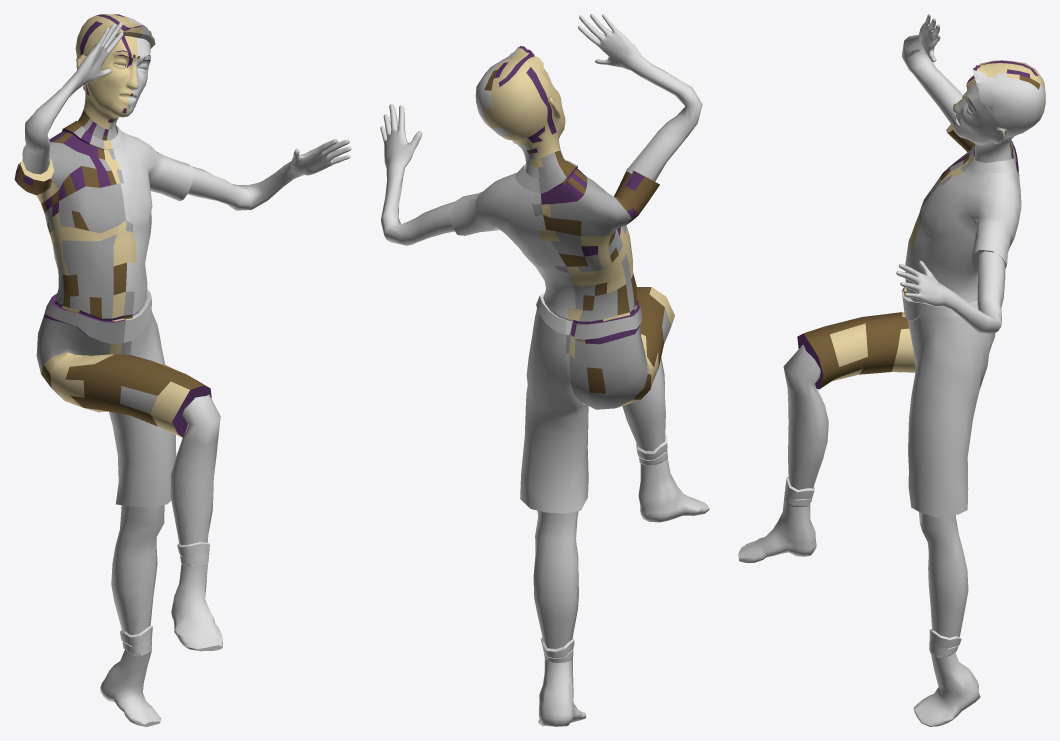
The model's file is Little_Tom.obj.
The picture shows the model from 3 angles, left to right: view 1: azimuth 30°, elevation 25°; view 2: azimuth 150°, elevation 25°; view 3: azimuth 270°, elevation 25°; orthographic projection. The views are drawn at different scales.
Parts seen in each view (by area): view 1: polySurface9; view 2: polySurface9; view 3: polySurface9.
Part boxes in pixels (x1=…): polySurface9: x1=14, y1=14, x2=351, y2=726; polySurface9: x1=380, y1=14, x2=709, y2=726; polySurface9: x1=738, y1=14, x2=1045, y2=726.
Size of the model in its own units: 13.85 by 29.23 by 11.85.
